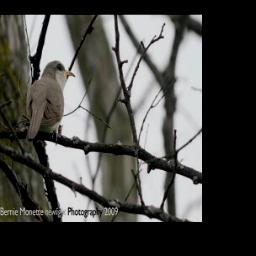Cuckoo: (24, 59, 74, 144)
